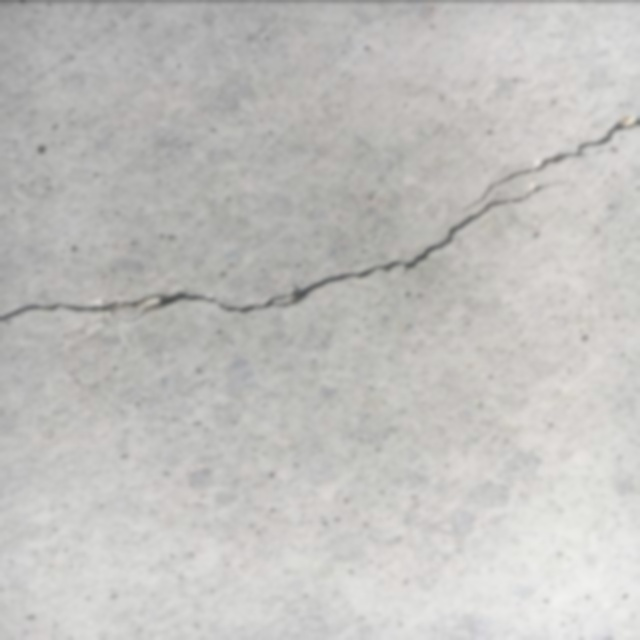SurfaceCrack: (1, 95, 640, 354)
